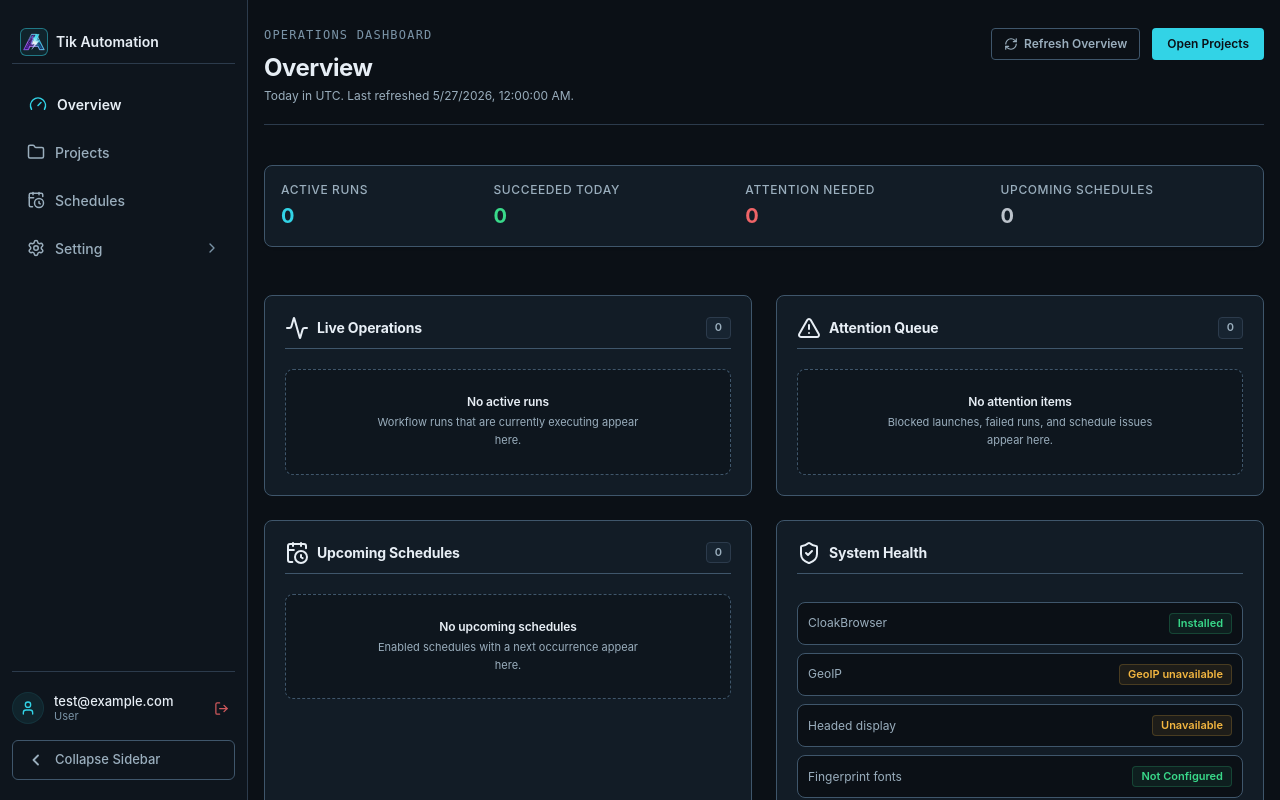
Test case: Subflow list integration › opens subflow settings from the list and saves a renamed subflow
The width and height of the screenshot is (1280, 800).
Click the button "Projects": (124, 152) [12,132,235,172]
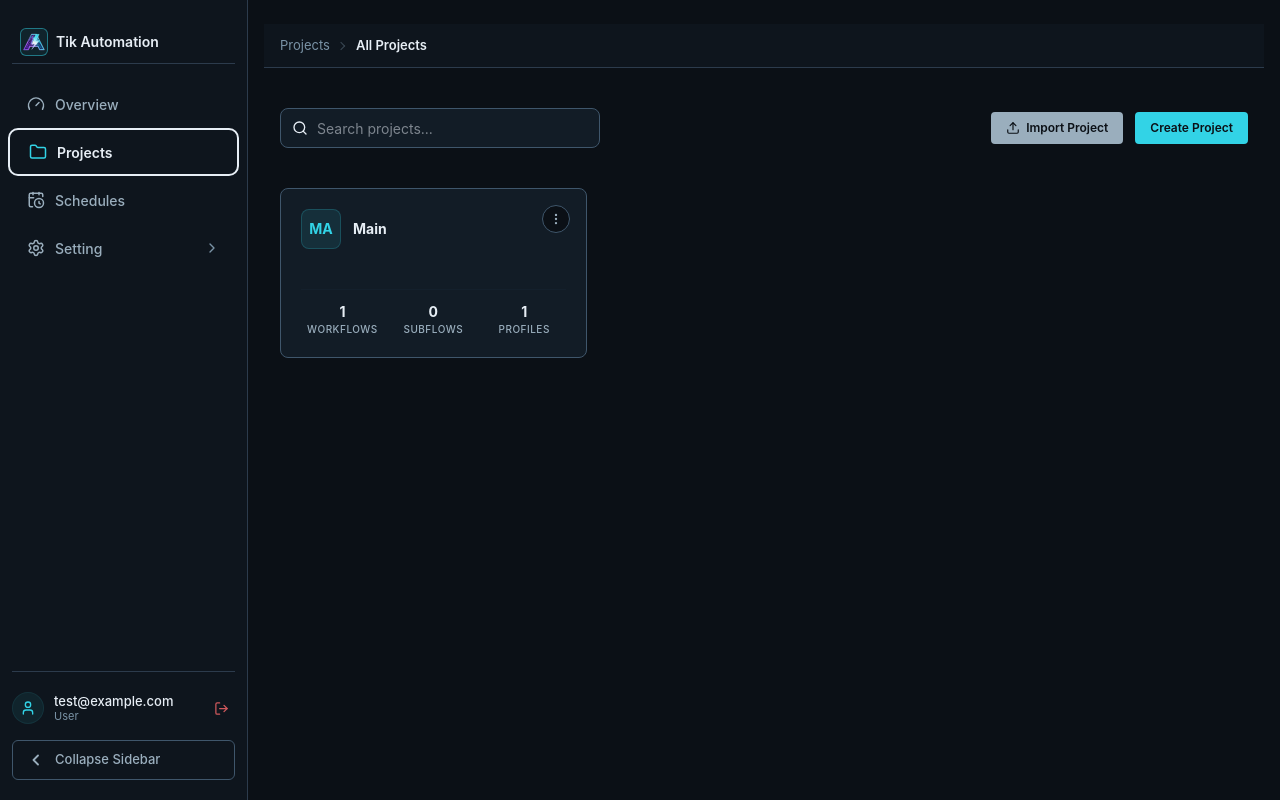
Click the button "MA Main 1 Workflows 0 Subflows 1 Profiles": (321, 229) [280,188,587,358]
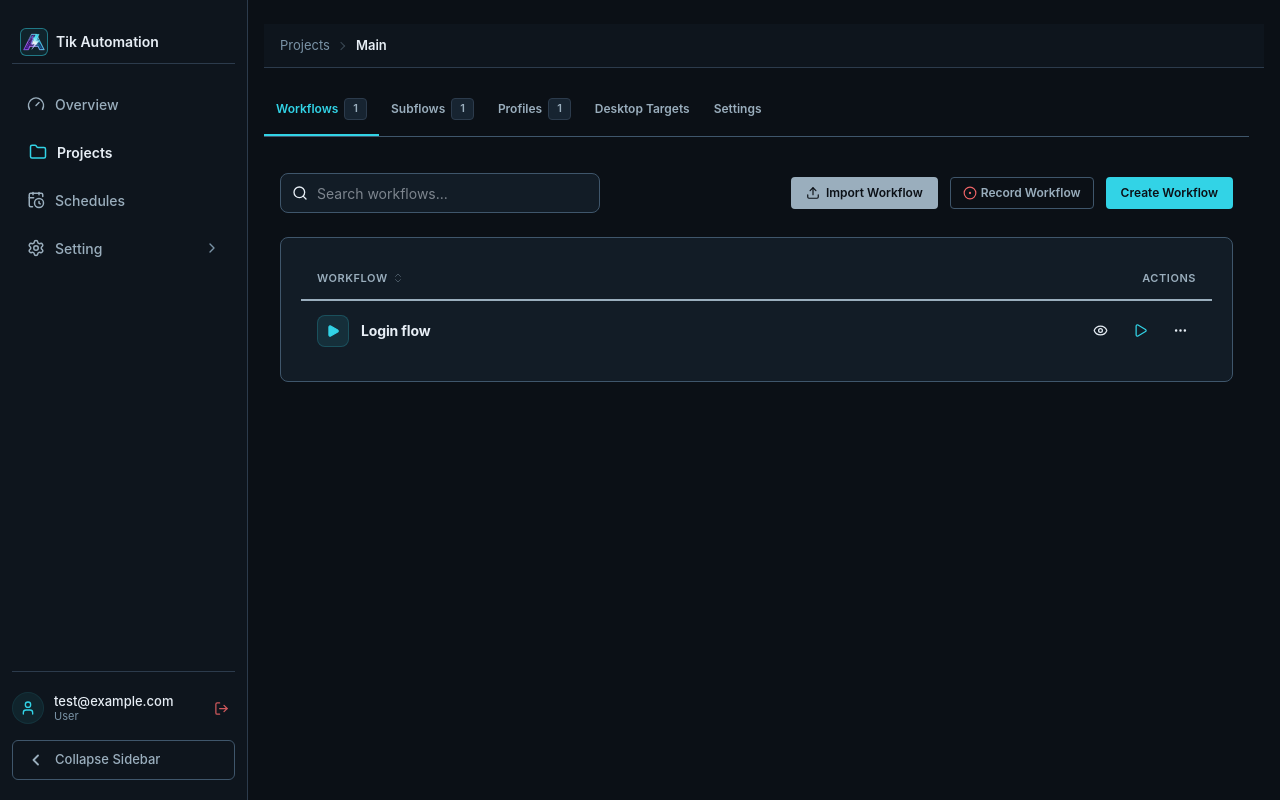
Click the button "Subflows 1": (432, 116) [379,96,486,136]
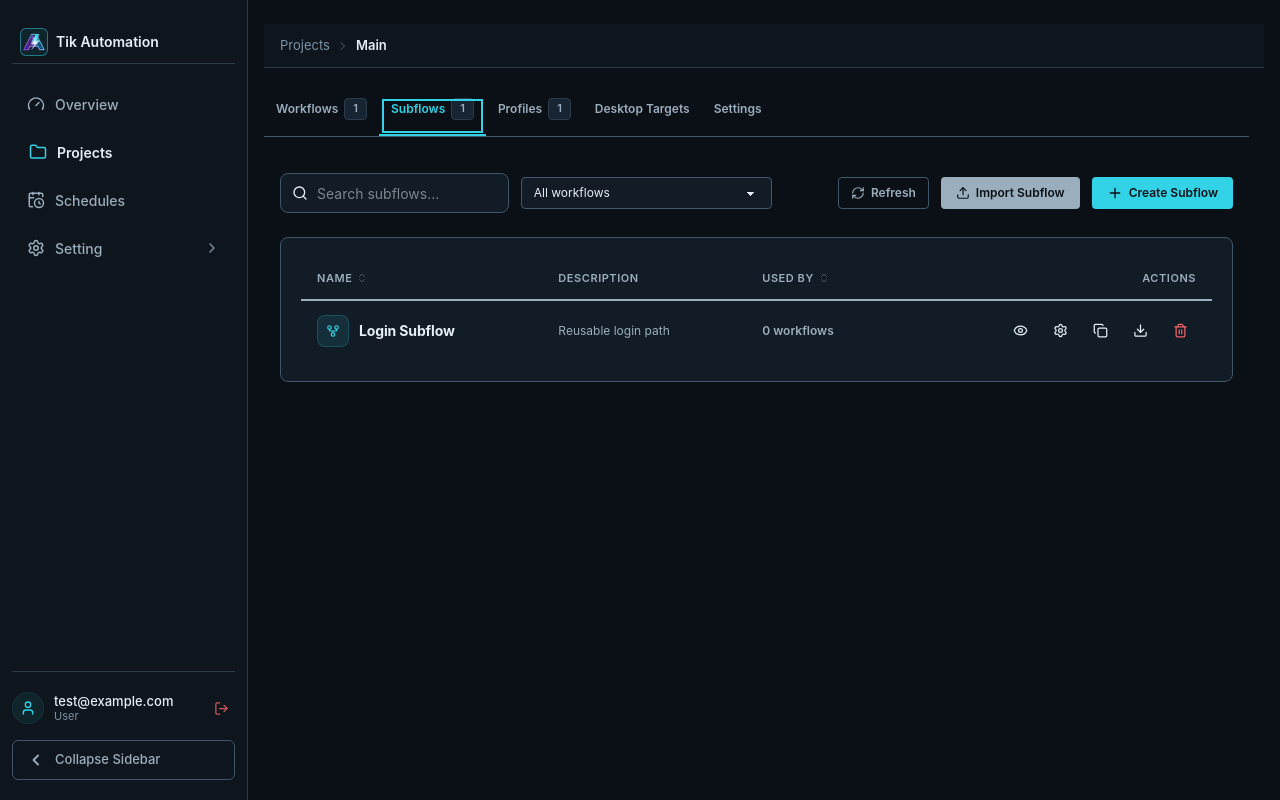
Click the button named "Settings Login Subflow": (1060, 330) [1044,314,1076,346]
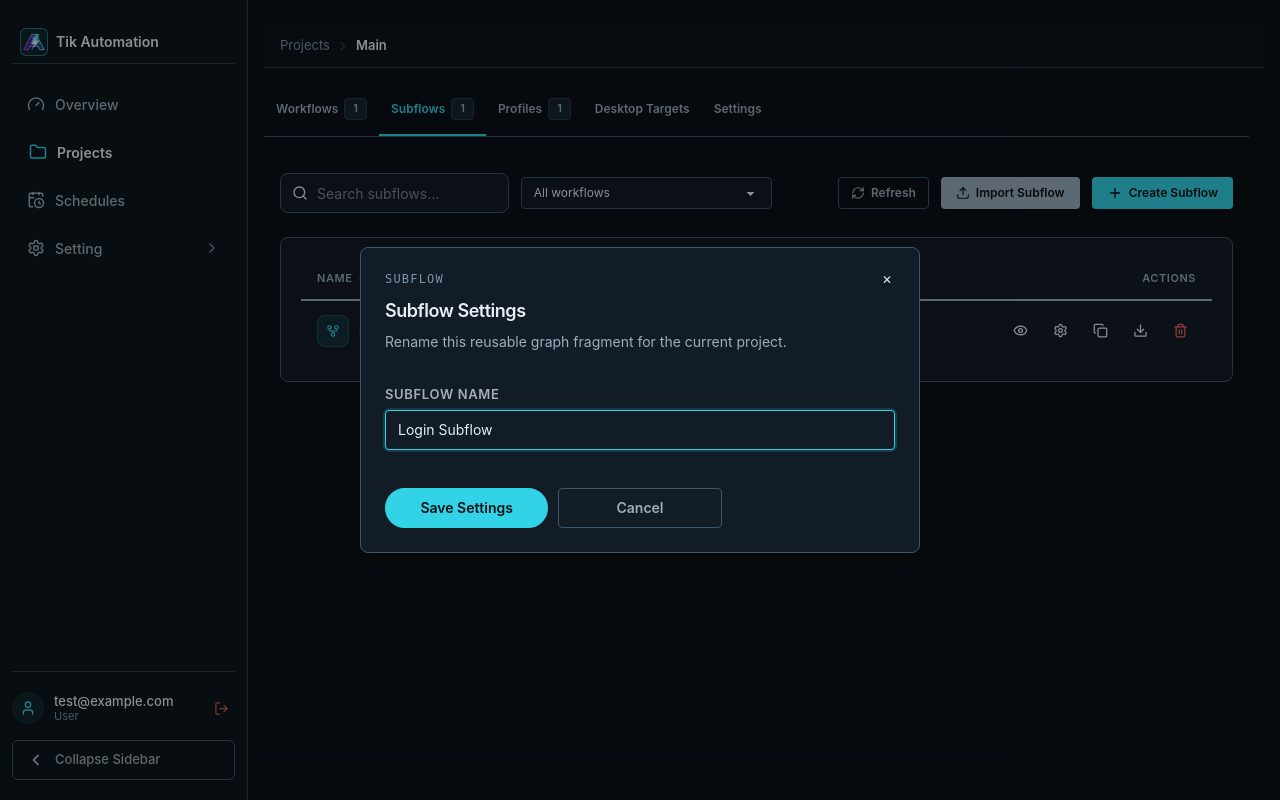
Replace the text in the field labelled "Subflow name" with "Session Prep": (640, 430) [385,410,895,450]
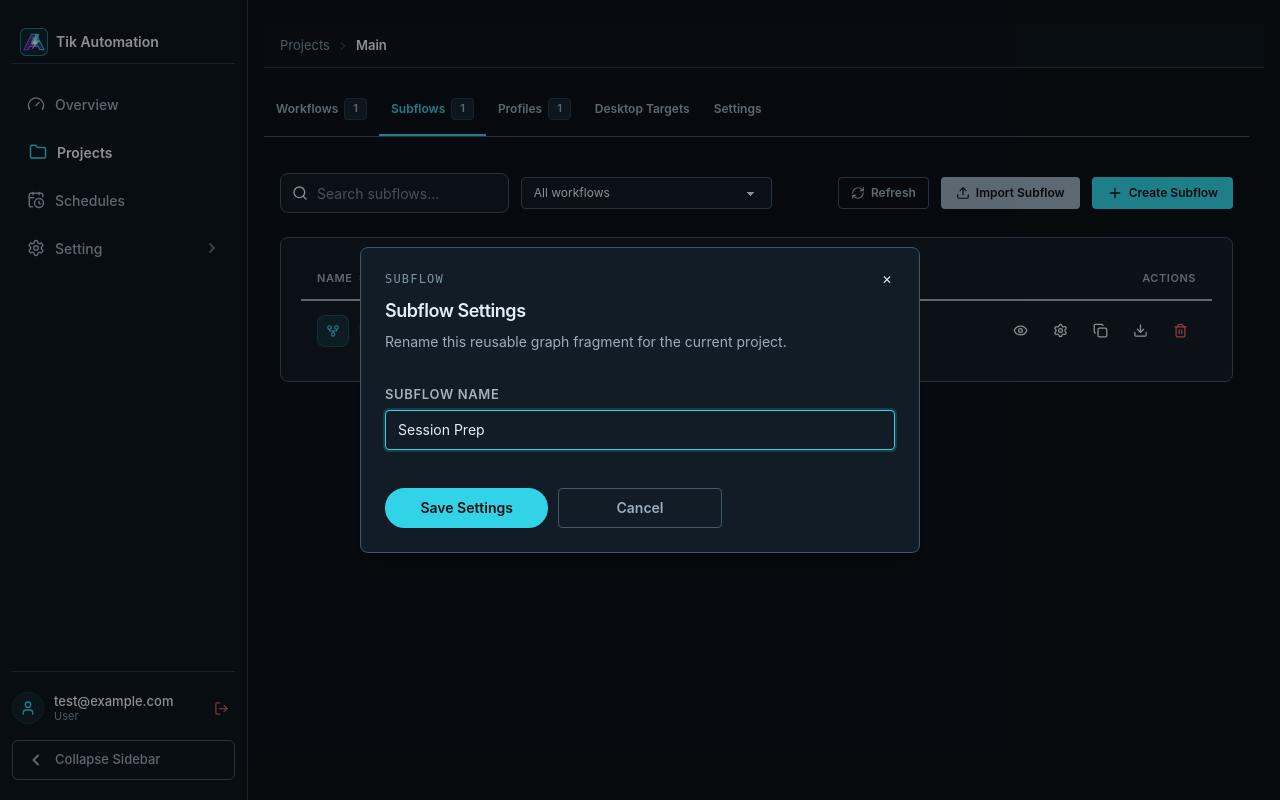
Click the button "Save Settings": (467, 508) [385,488,548,528]
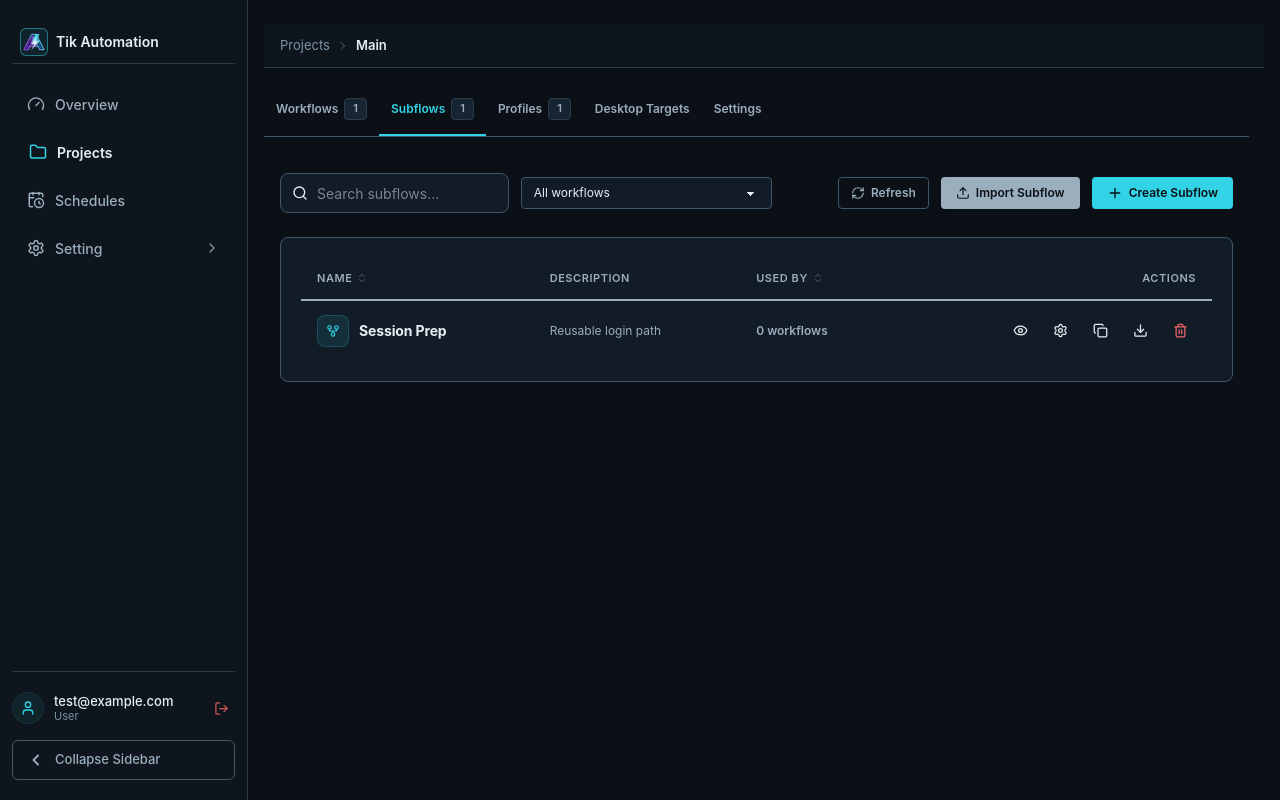
expect the heading "Session Prep" is shown: met, box [359,320,446,340]
expect the heading "Subflow Settings" is gone: met
